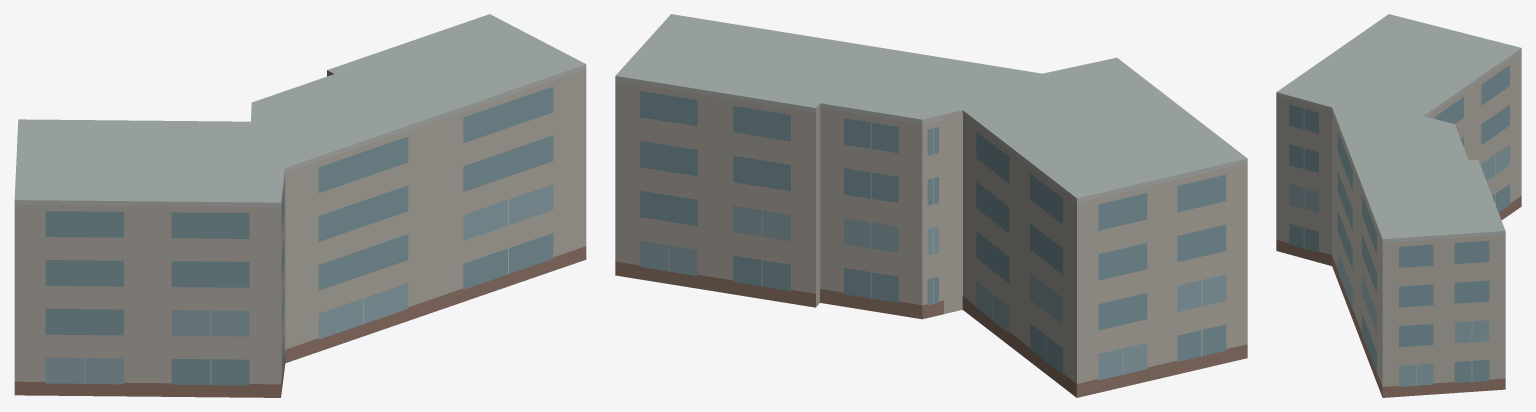
The model's file is survey-upis-32772333.glb.
3 renders of one model, left to right at view 1: azimuth 30°, elevation 25°; view 2: azimuth 150°, elevation 25°; view 3: azimuth 270°, elevation 25°, orthographic. The views are drawn at different scales.
Visible parts, largest first — view 1: survey-upis-32772333.tmp; view 2: survey-upis-32772333.tmp; view 3: survey-upis-32772333.tmp.
Boxes of the visible parts, box(x1,y1,x2,y2) form: survey-upis-32772333.tmp: box(14, 14, 586, 397); survey-upis-32772333.tmp: box(615, 14, 1247, 397); survey-upis-32772333.tmp: box(1276, 14, 1521, 397).
Bounding box in the file's own units: 31.66 × 10.4 × 14.58.
